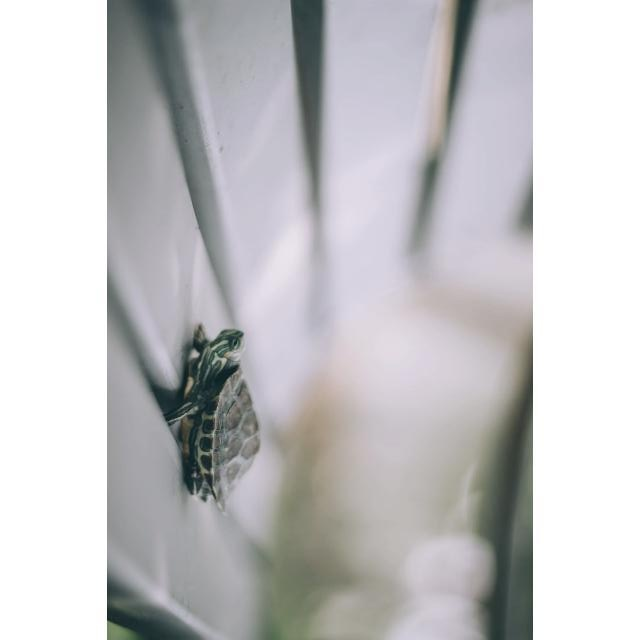turtle: (162, 322, 261, 510)
